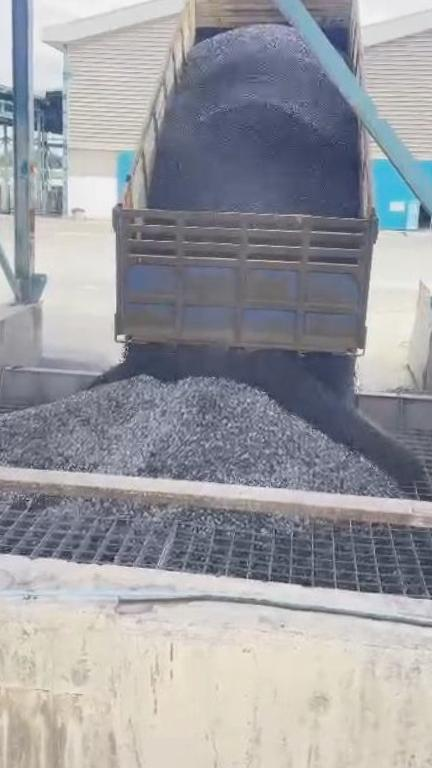gravel: (0, 376, 399, 494), (147, 27, 359, 216), (0, 493, 162, 537), (303, 355, 354, 399), (188, 507, 251, 527)
